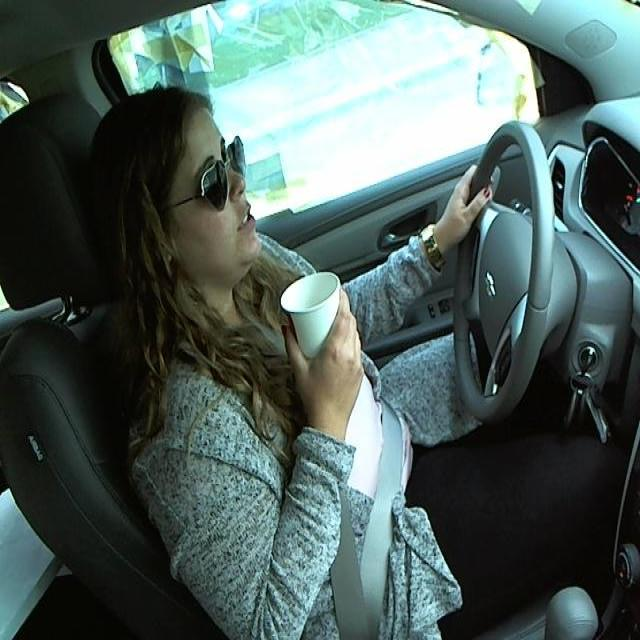Seatbelt: (278, 269, 342, 380)
